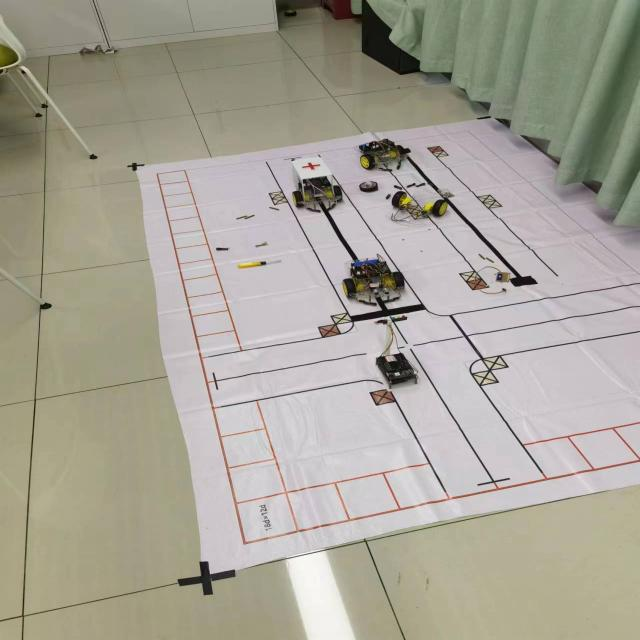RedCross: (298, 161, 323, 171)
